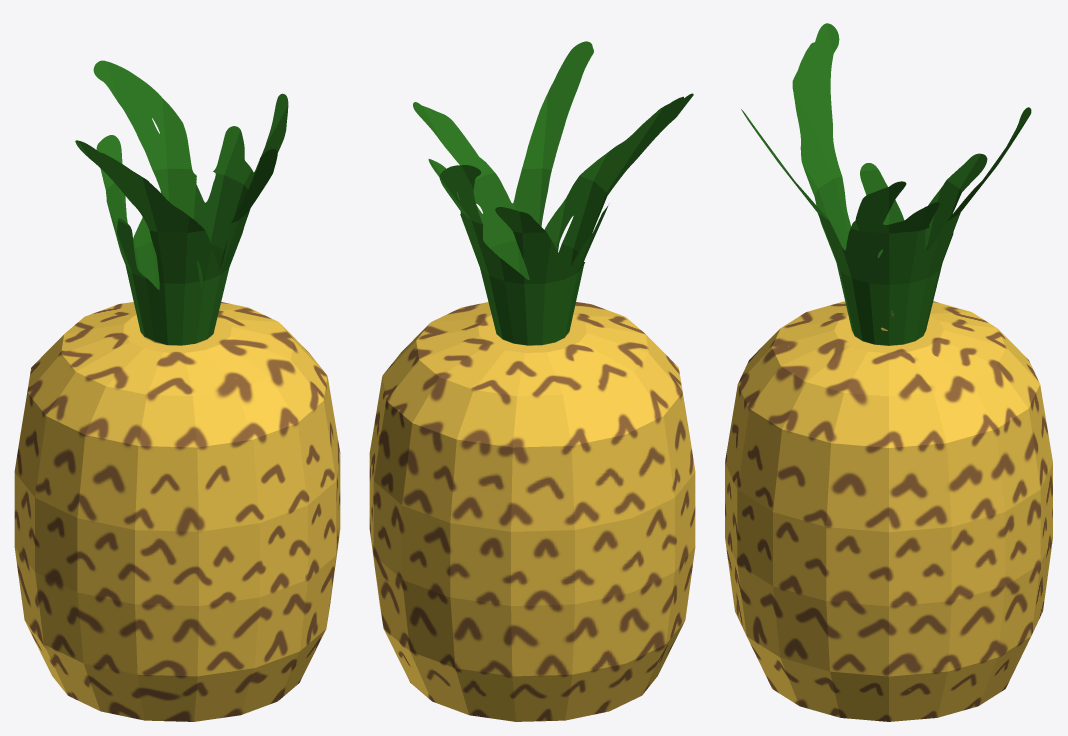
Rendered from pineapple.dae.
3 views of the same model, side by side, from view 1: azimuth 30°, elevation 25°; view 2: azimuth 150°, elevation 25°; view 3: azimuth 270°, elevation 25° (orthographic).
Parts seen in each view (by area): view 1: Sphere; view 2: Sphere; view 3: Sphere.
Part boxes in pixels (left/top/right/bottom): Sphere: left=14, top=60, right=340, bottom=721; Sphere: left=369, top=41, right=695, bottom=721; Sphere: left=725, top=23, right=1052, bottom=721.
Size of the model in its own units: 2.01 by 2.01 by 4.09.
